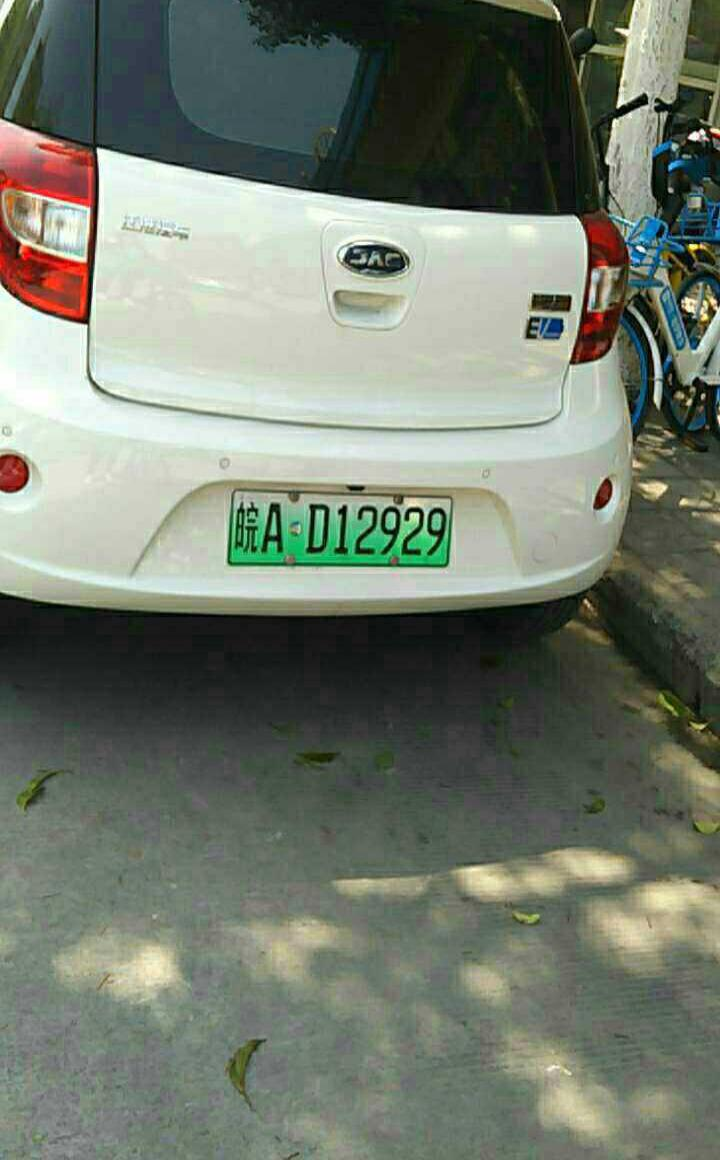car_green: (227, 483, 457, 576)
